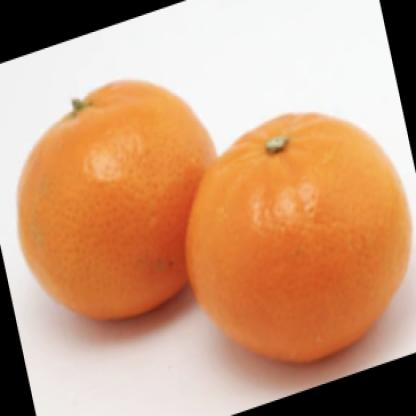fresh: (14, 80, 416, 372)
